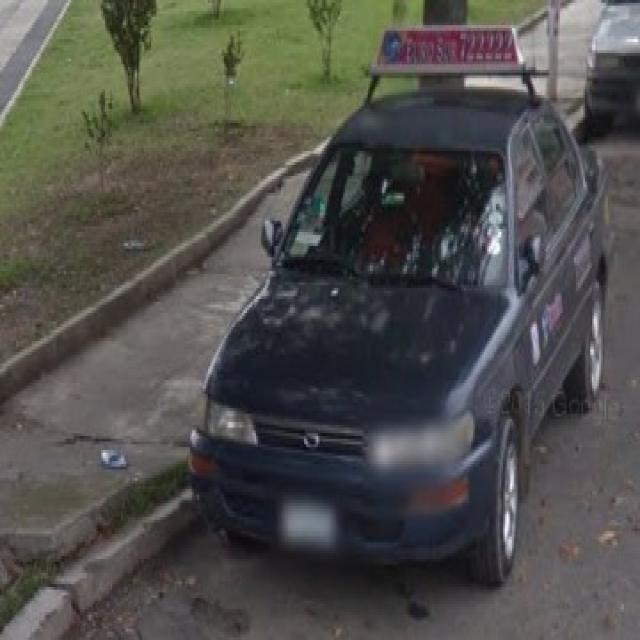cars: (198, 58, 614, 602)
